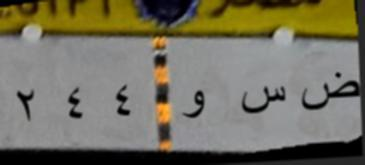2: (6, 82, 49, 132)
4: (100, 76, 142, 127), (58, 78, 93, 131)
daad: (298, 67, 359, 119)
seen: (233, 72, 293, 124)
waw: (174, 81, 216, 126)
